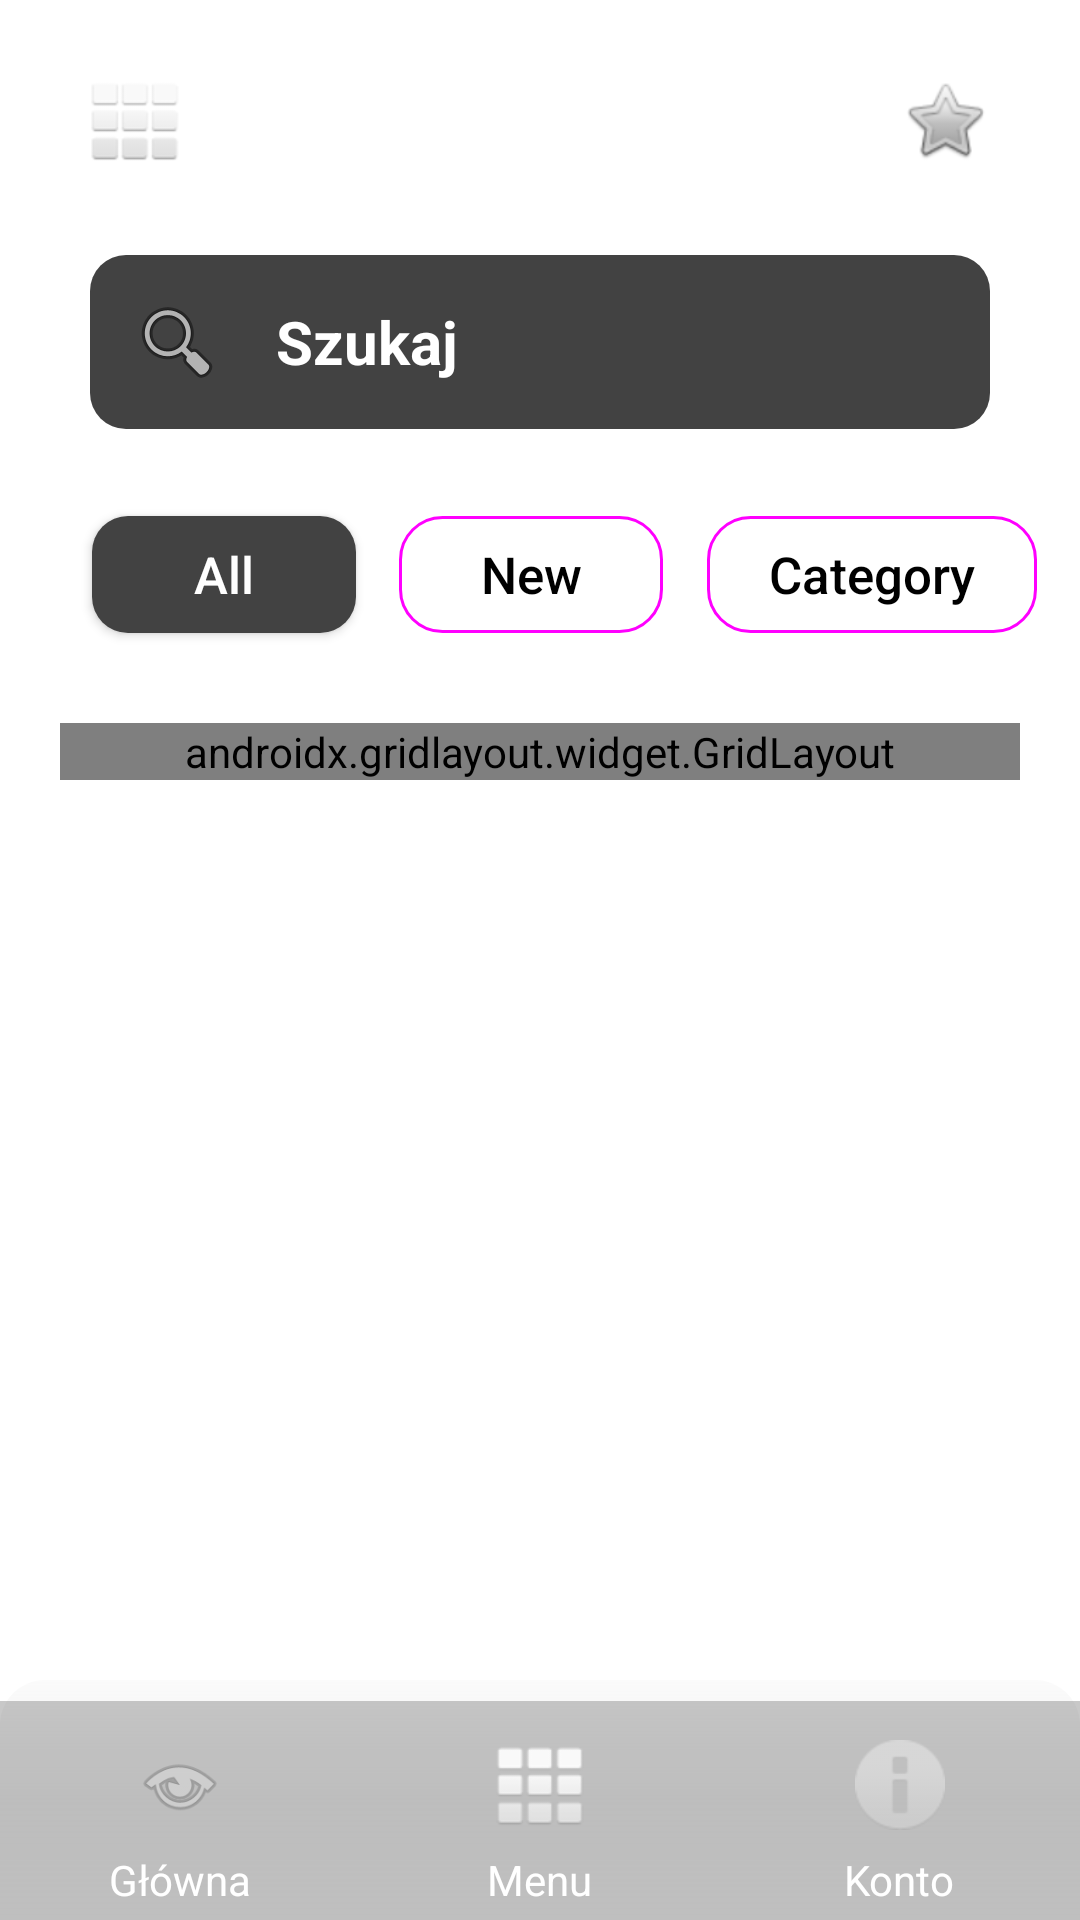

Named icons in this screenshot (1080*1920) and their centers, point (x, y):
star: point (945, 120)
view: point (180, 1787)
